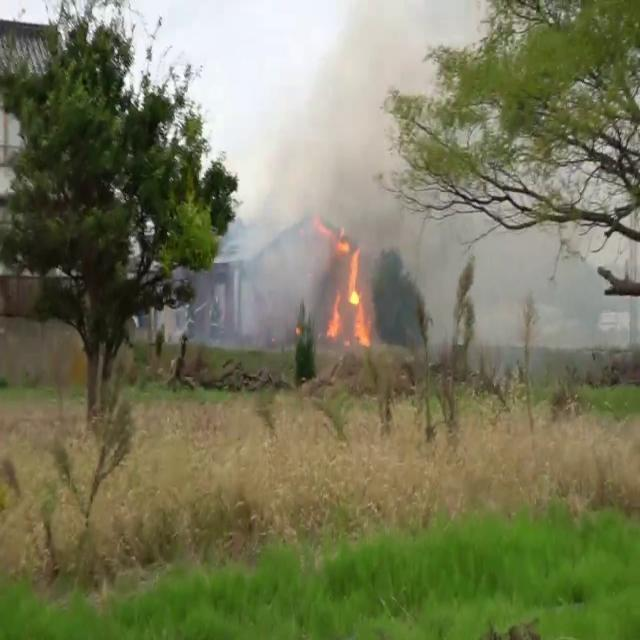Fire: (324, 228, 374, 352)
Smoke: (224, 0, 433, 333)
